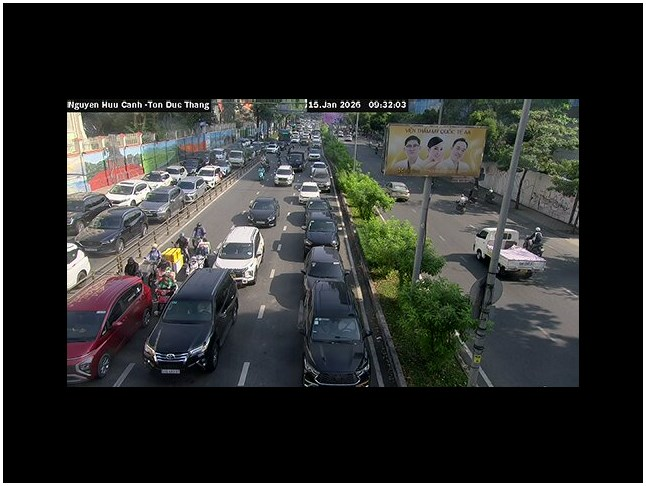bus: (74, 205, 147, 256)
car: (295, 247, 371, 387), (143, 266, 239, 375), (67, 272, 153, 382), (213, 226, 266, 287), (139, 185, 185, 225), (303, 199, 338, 247), (304, 217, 339, 248), (247, 197, 279, 227), (175, 177, 209, 201), (387, 181, 411, 203), (273, 165, 295, 186), (298, 182, 321, 200)
